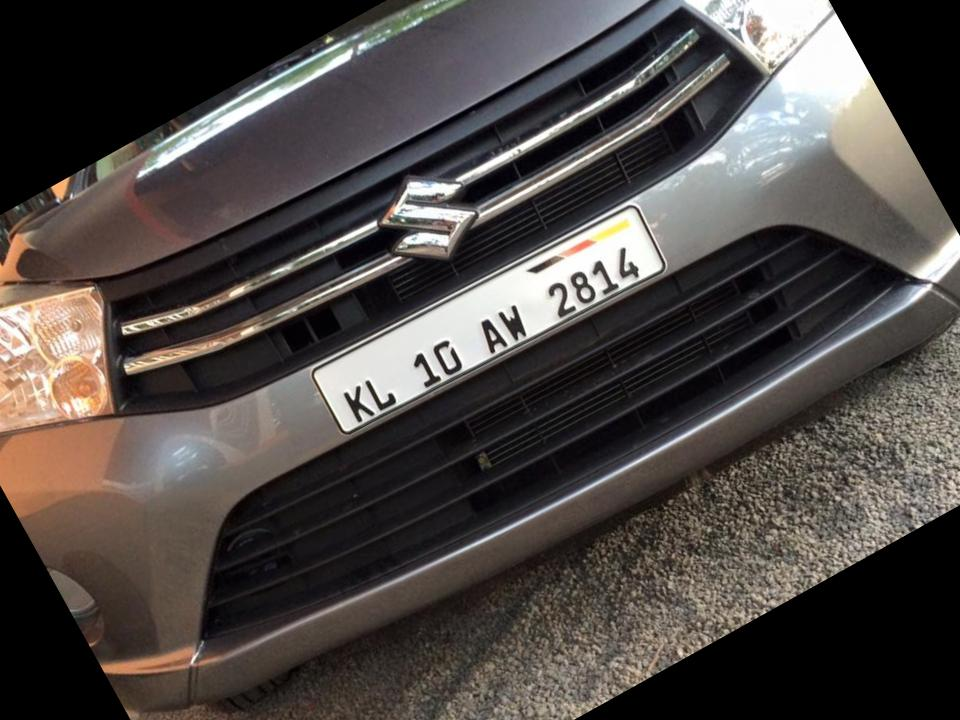plate: (296, 173, 697, 462)
